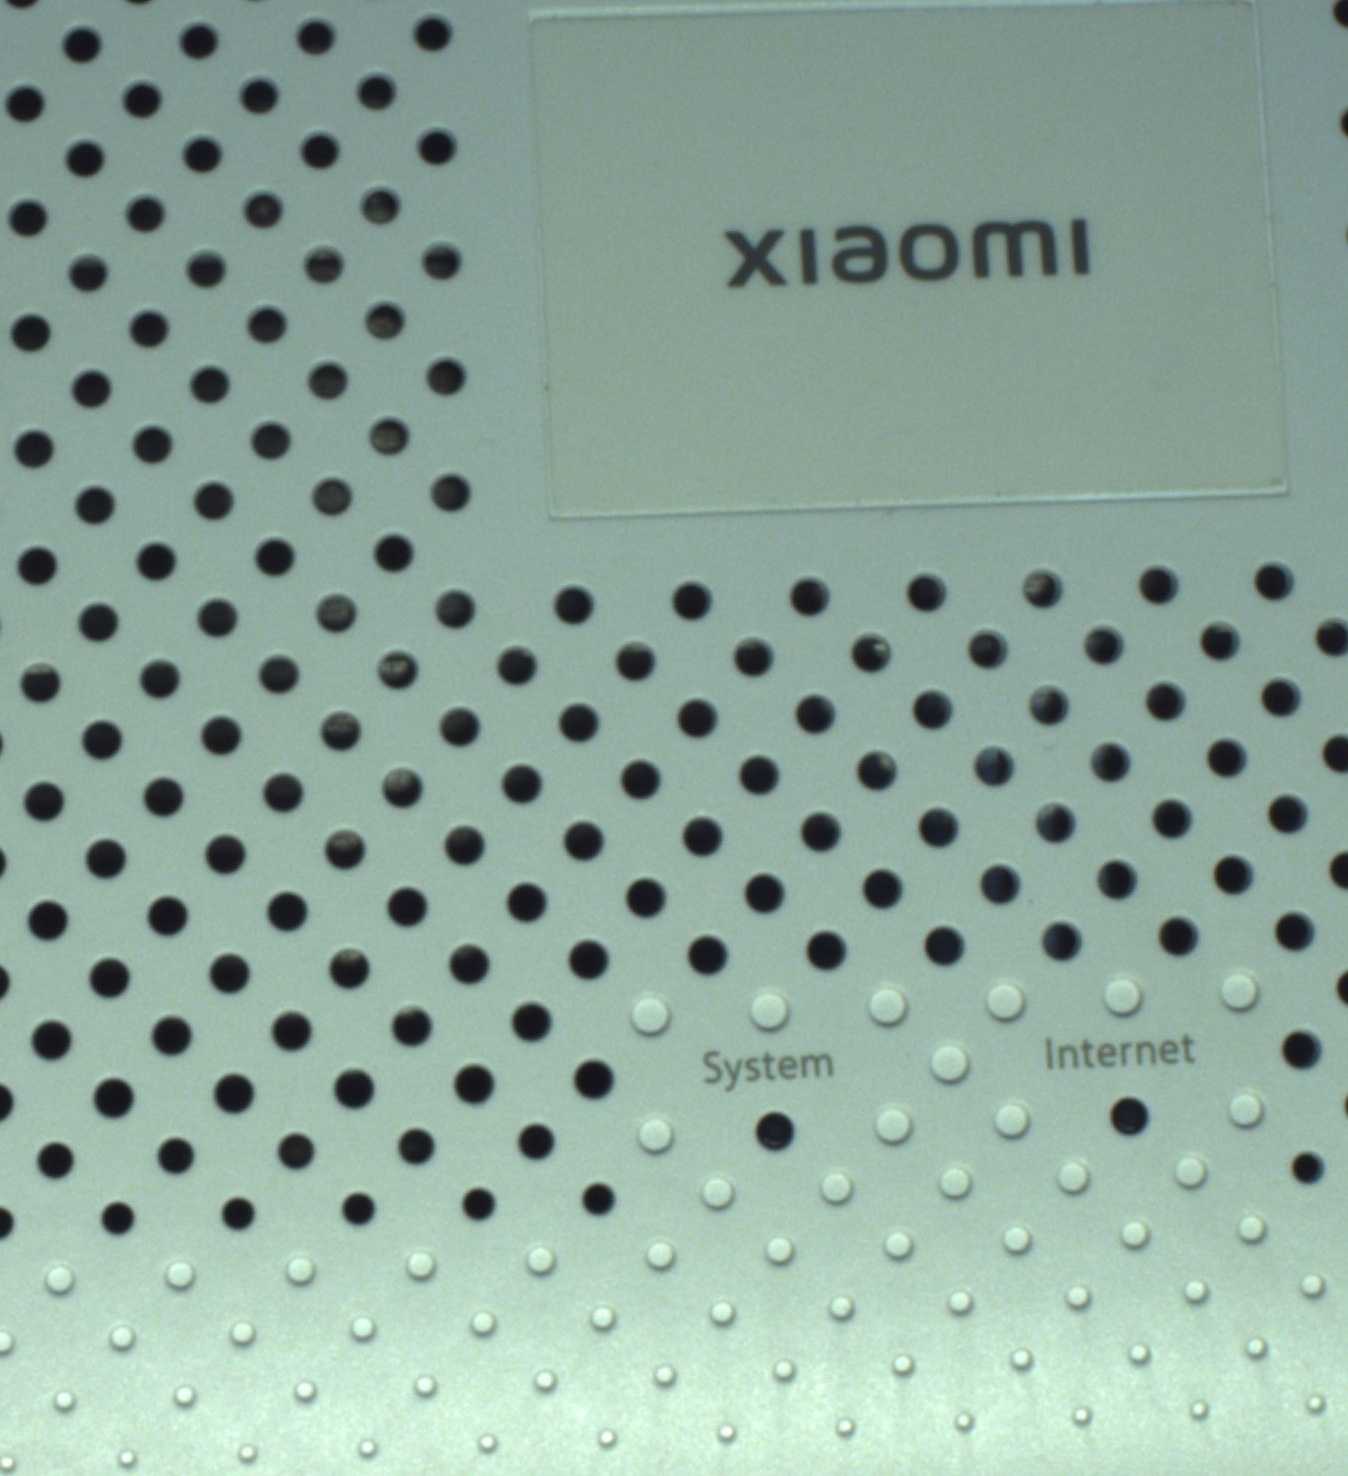MAB_OldUnicom: (713, 189, 1107, 312)
